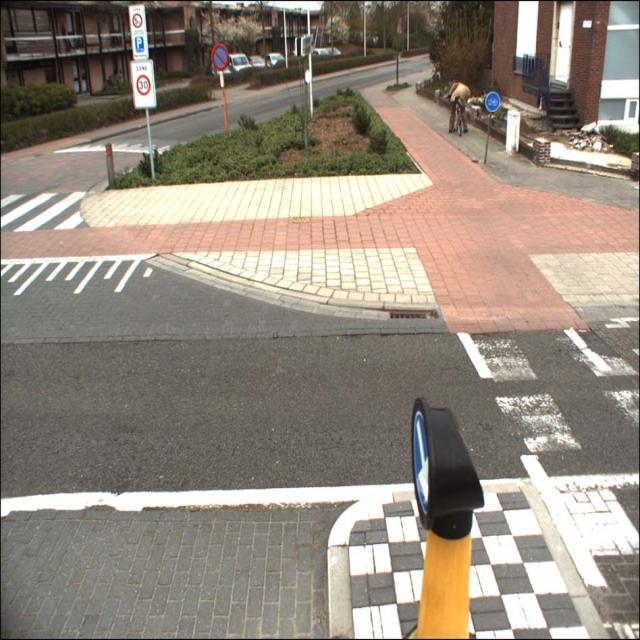parkyasak: (211, 44, 228, 70)
